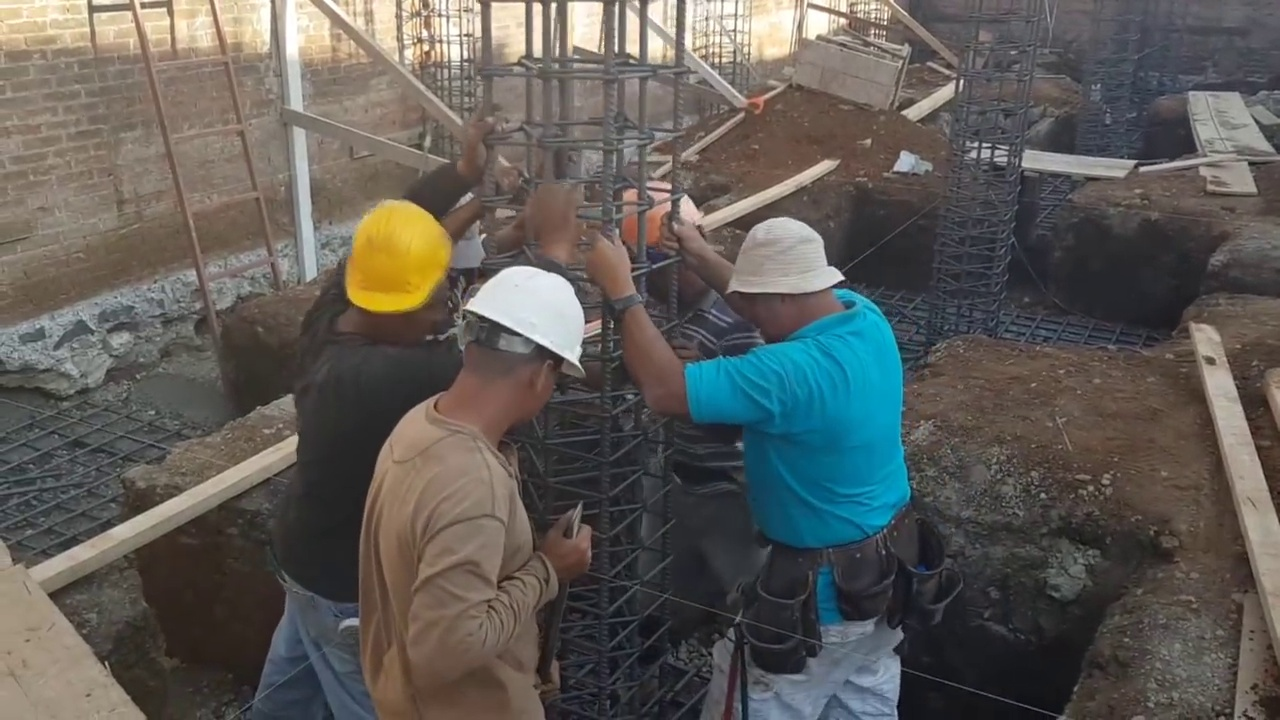helmet: (459, 267, 589, 377), (343, 203, 457, 317), (615, 176, 706, 250)
helmet-off: (721, 217, 843, 349)
helmet-on: (427, 263, 586, 447), (321, 202, 455, 357), (613, 179, 720, 318)
person: (248, 99, 580, 719), (592, 174, 911, 719), (360, 255, 597, 712), (613, 174, 772, 681)
